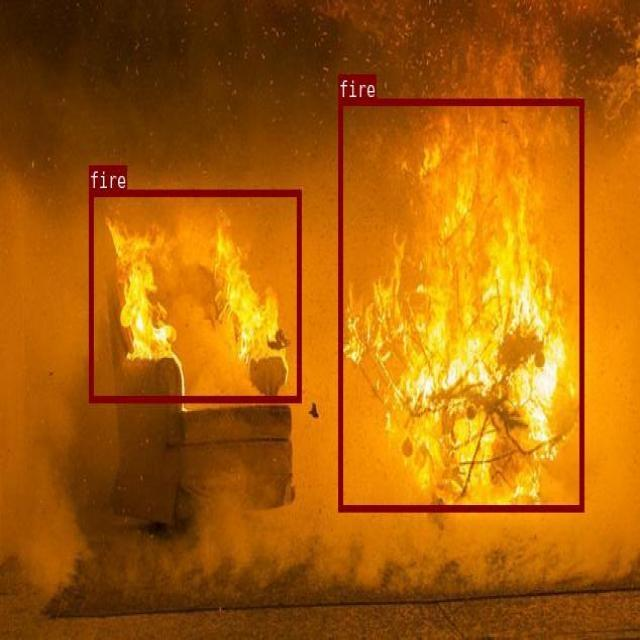fire: (338, 98, 583, 510), (89, 189, 301, 401)
